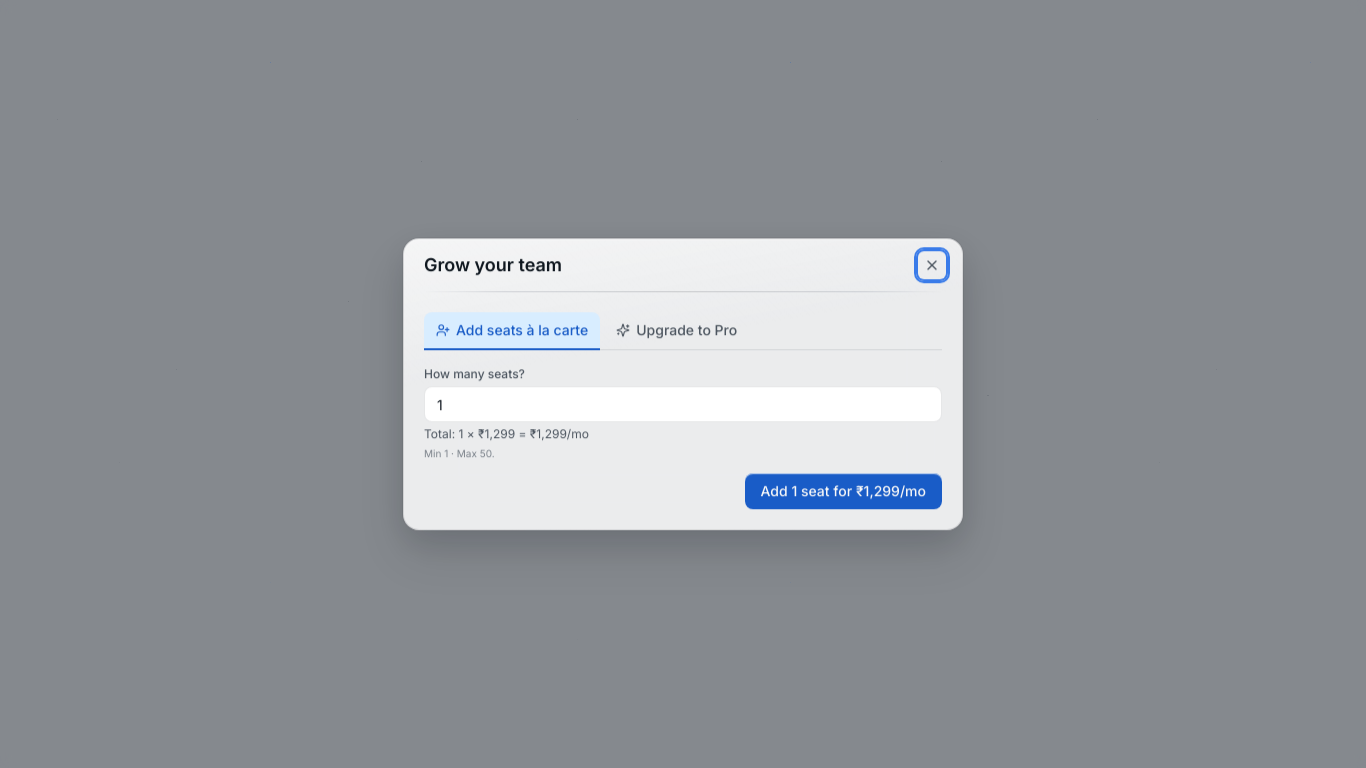
BuySeatsModal › upgrade tab renders solo_total + pro_total + breakeven math (INR)
Click the tab with test id "buy-seats-tab-upgrade" at x=677, y=331, box [604,312,749,350]
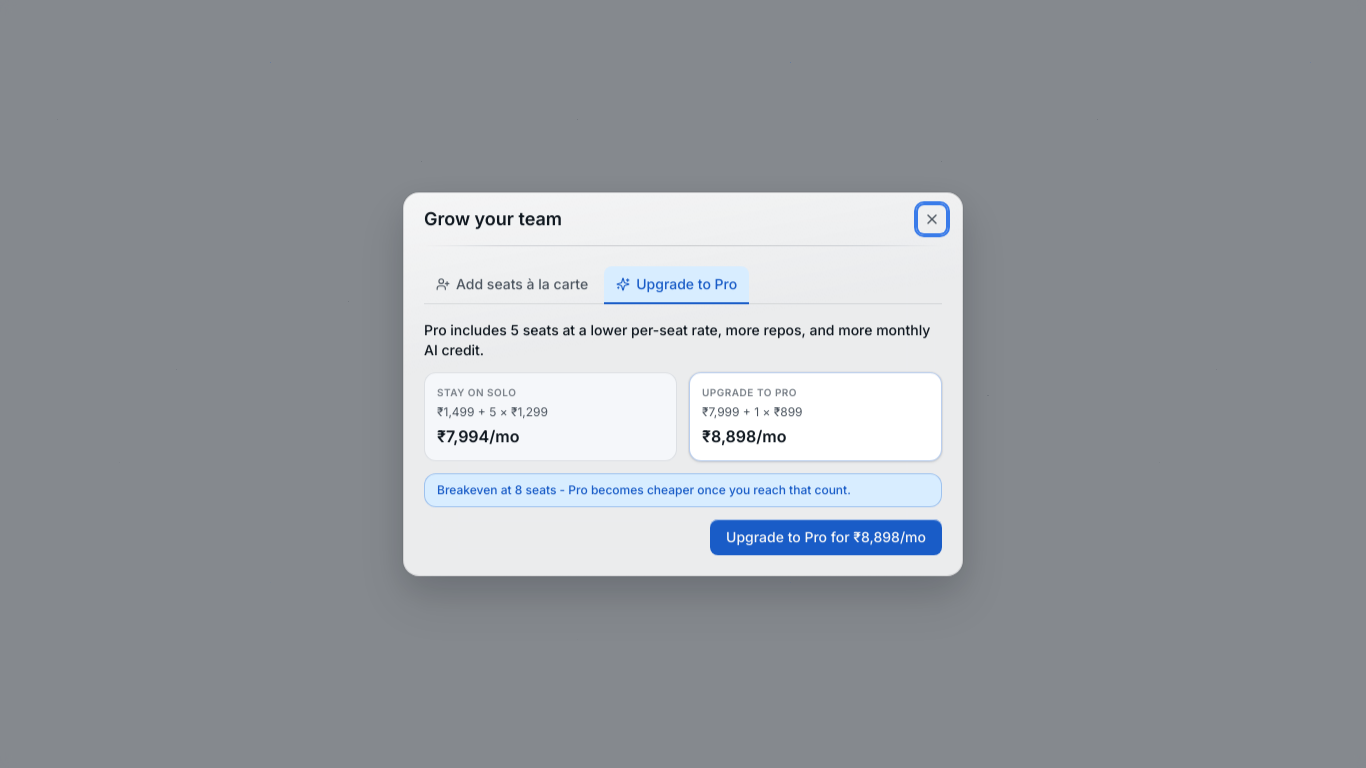
Expected: the element with test id "buy-seats-solo-total" shows "₹7,994/mo", [424,372,677,461]
Expected: the element with test id "buy-seats-pro-total" shows "₹8,898/mo", [689,372,942,461]
Expected: the text with test id "buy-seats-breakeven" shows "Breakeven at 8 seats", [424,473,942,507]
